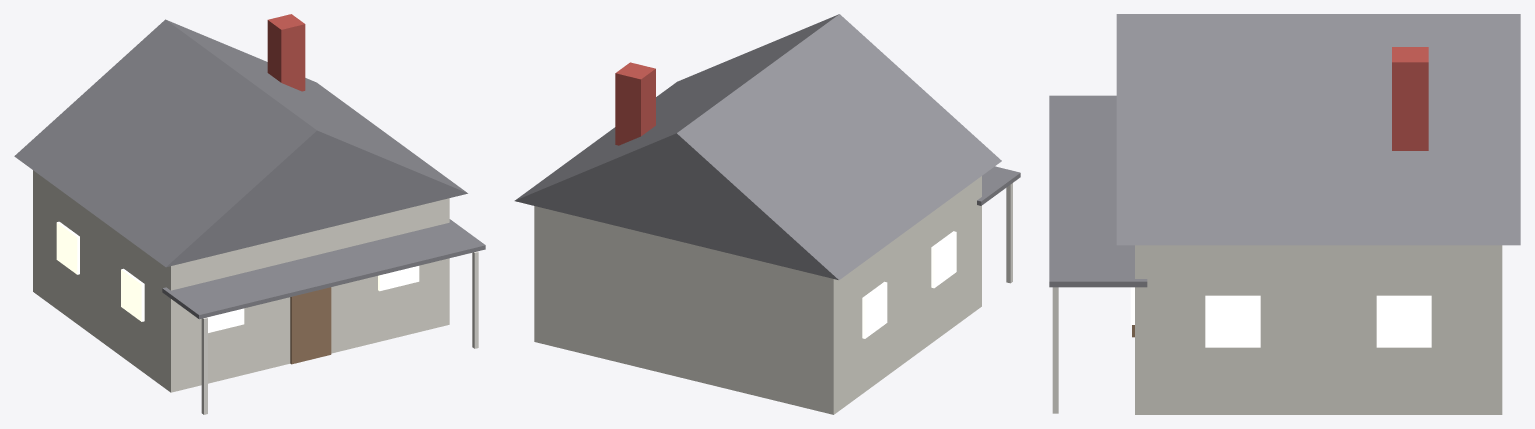
The model's file is farmhouse.glb.
The picture shows the model from 3 angles, left to right: view 1: azimuth 30°, elevation 25°; view 2: azimuth 150°, elevation 25°; view 3: azimuth 270°, elevation 25°; orthographic projection. The views are drawn at different scales.
Visible parts, largest first — view 1: farmhouse; view 2: farmhouse; view 3: farmhouse.
Part boxes in pixels (x1,y1,x2,y2): farmhouse: [14, 14, 485, 414]; farmhouse: [514, 14, 1020, 414]; farmhouse: [1049, 14, 1520, 414].
Bounding box in the file's own units: 7.6 × 5.8 × 7.7.
